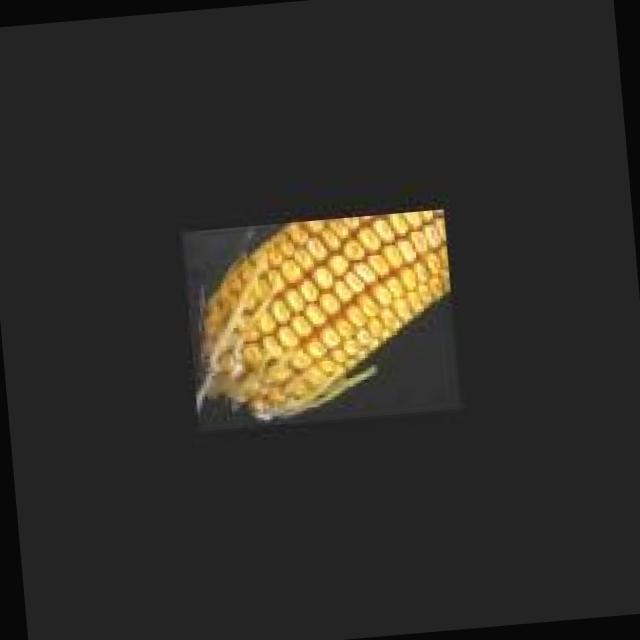corn: (198, 212, 449, 421)
